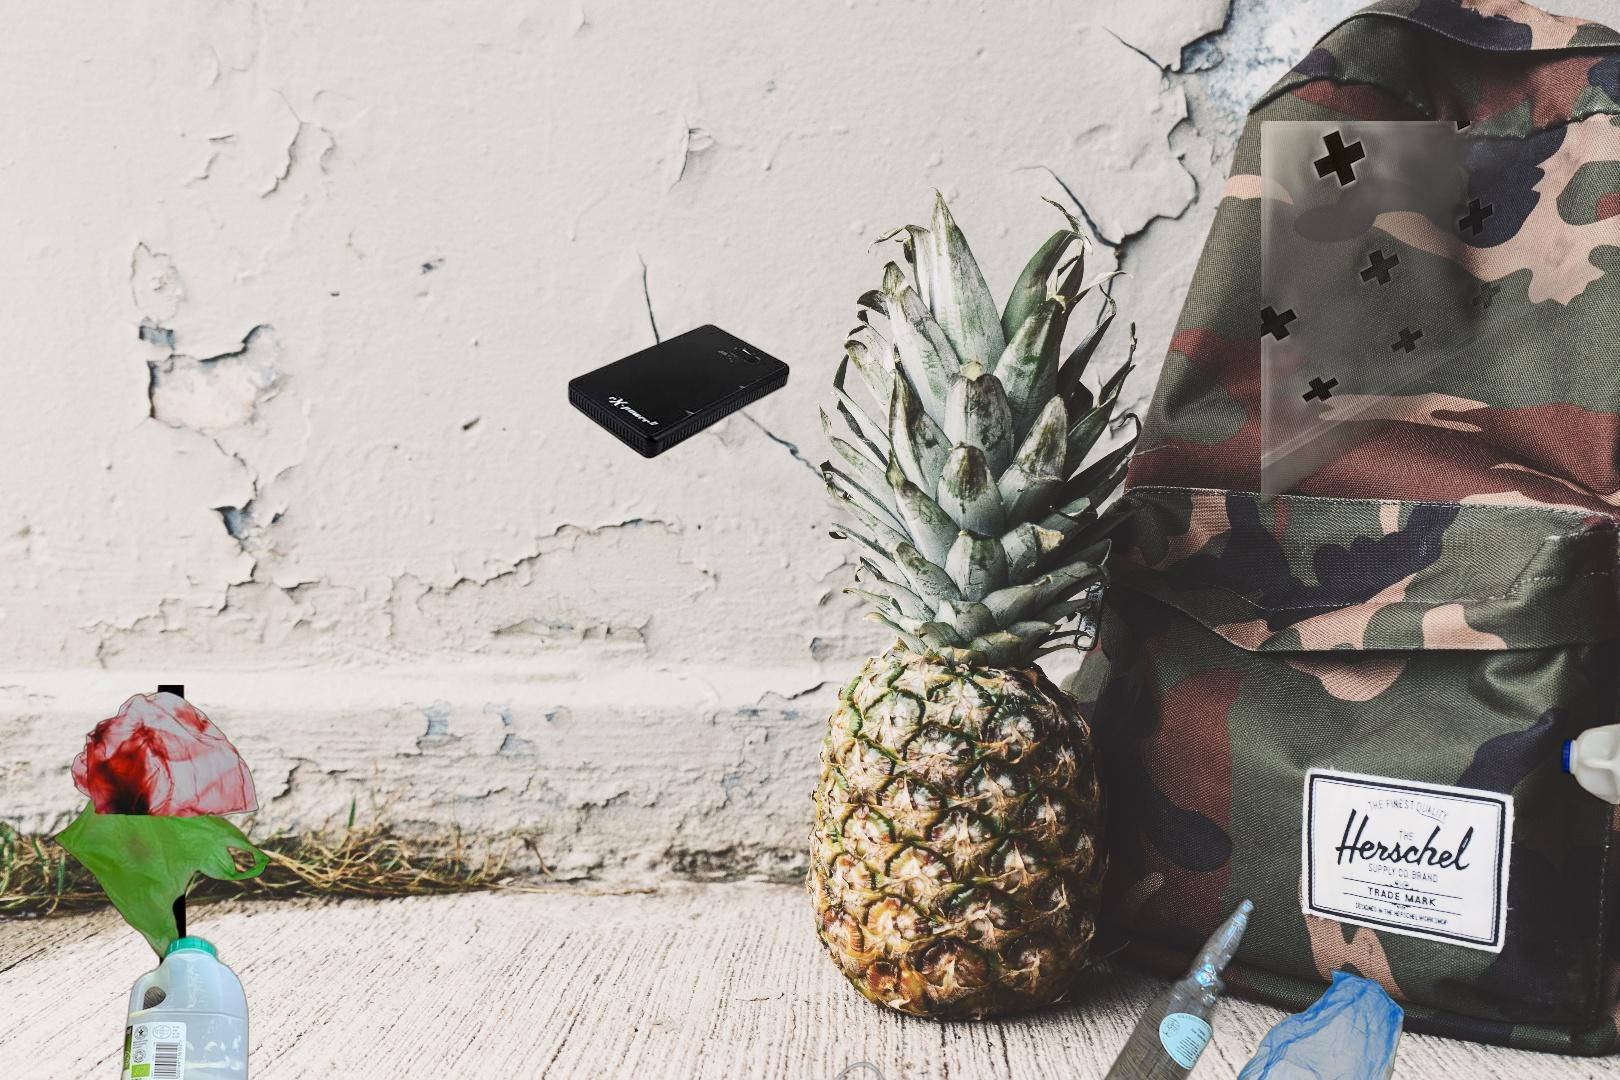battery: (567, 321, 791, 460)
glass: (1092, 802, 1534, 1080)
plastic-bag: (52, 685, 272, 985), (1233, 965, 1407, 1080)
plastic-bottles: (1261, 121, 1620, 804), (115, 931, 252, 1080)
trash: (799, 1060, 1016, 1080)
